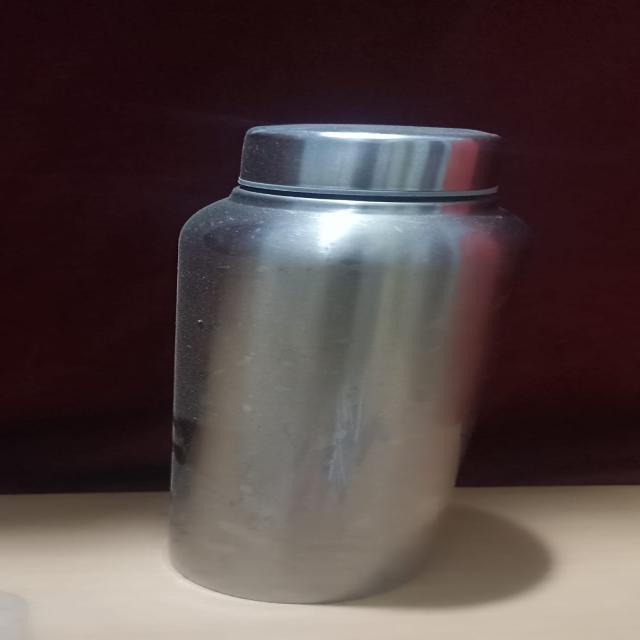bottle: (155, 109, 519, 603)
